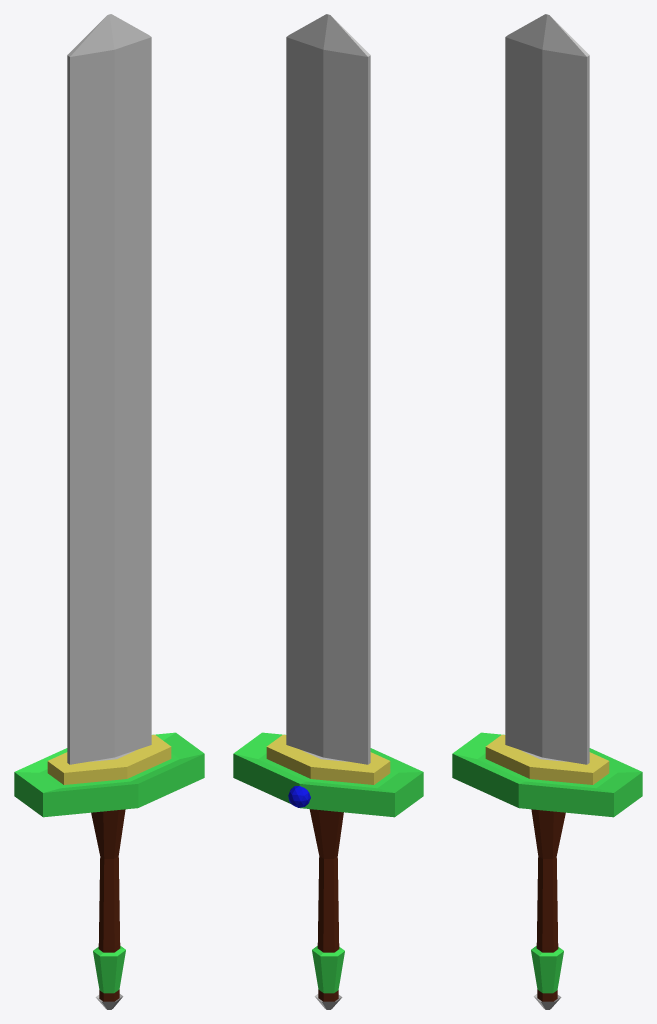
File: sword.glb
3 renders of one model, left to right at view 1: azimuth 30°, elevation 25°; view 2: azimuth 150°, elevation 25°; view 3: azimuth 330°, elevation 25°, orthographic.
Visible parts, largest first — view 1: Sword; view 2: Sword; view 3: Sword.
Part boxes in pixels (x1,y1,x2,y2): Sword: (14, 14, 204, 1009); Sword: (233, 14, 423, 1009); Sword: (452, 14, 642, 1009).
Size of the model in its own units: 0.1842 by 1.08 by 0.1251.
